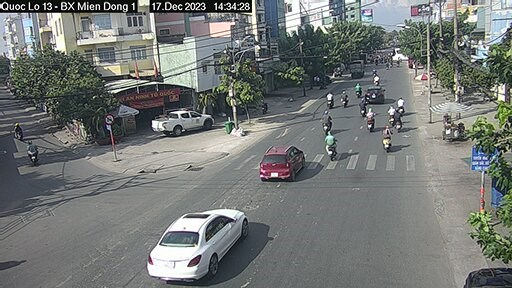car: (151, 206, 249, 279), (257, 142, 308, 184), (151, 108, 213, 136), (365, 87, 385, 102)
motorbike: (324, 131, 341, 164), (379, 125, 391, 154), (365, 109, 376, 136)
